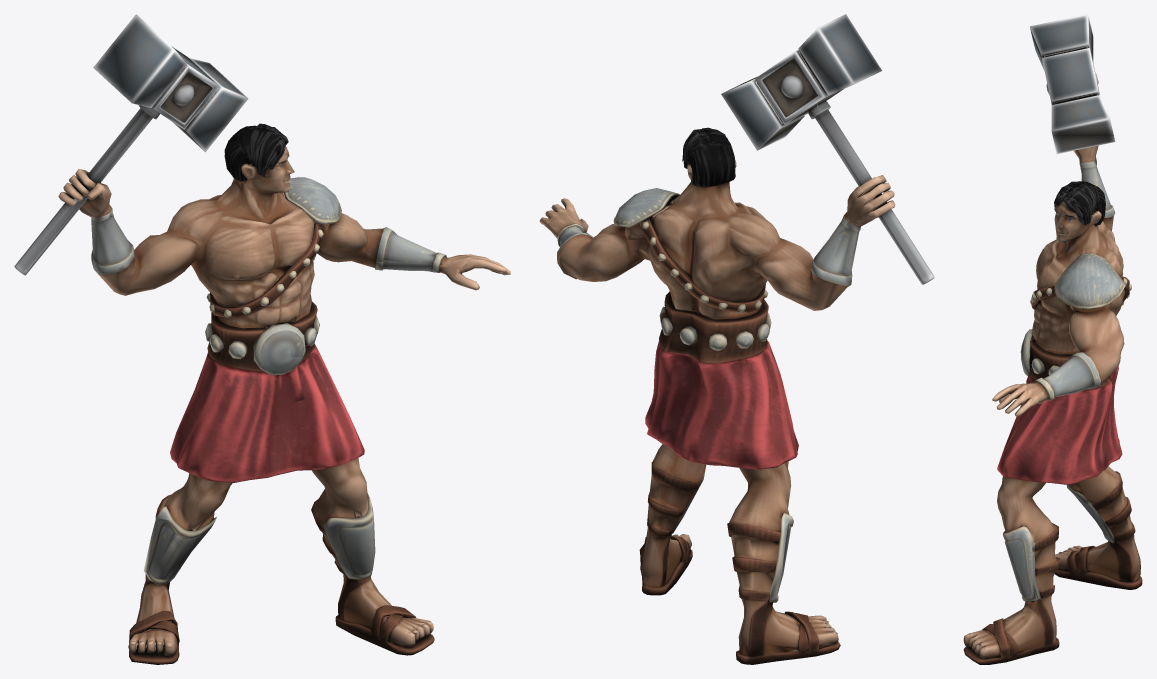
Rendered from MZ4250 - Human Barbarian Male 2.glb.
3 renders of one model, left to right at view 1: azimuth 30°, elevation 25°; view 2: azimuth 150°, elevation 25°; view 3: azimuth 270°, elevation 25°, orthographic. The views are drawn at different scales.
Visible parts, largest first — view 1: body_low.001, hammer_low.001; view 2: body_low.001, hammer_low.001; view 3: body_low.001, hammer_low.001.
Boxes of the visible parts, box(x1,y1,x2,y2) form: body_low.001: box(58, 123, 510, 664); hammer_low.001: box(14, 14, 248, 275); body_low.001: box(539, 127, 895, 664); hammer_low.001: box(721, 14, 934, 284); body_low.001: box(963, 145, 1142, 664); hammer_low.001: box(1029, 14, 1115, 165).
Bounding box in the file's own units: 1.69 × 2.32 × 0.6814.
Materials: 1 (1 with a texture image).
